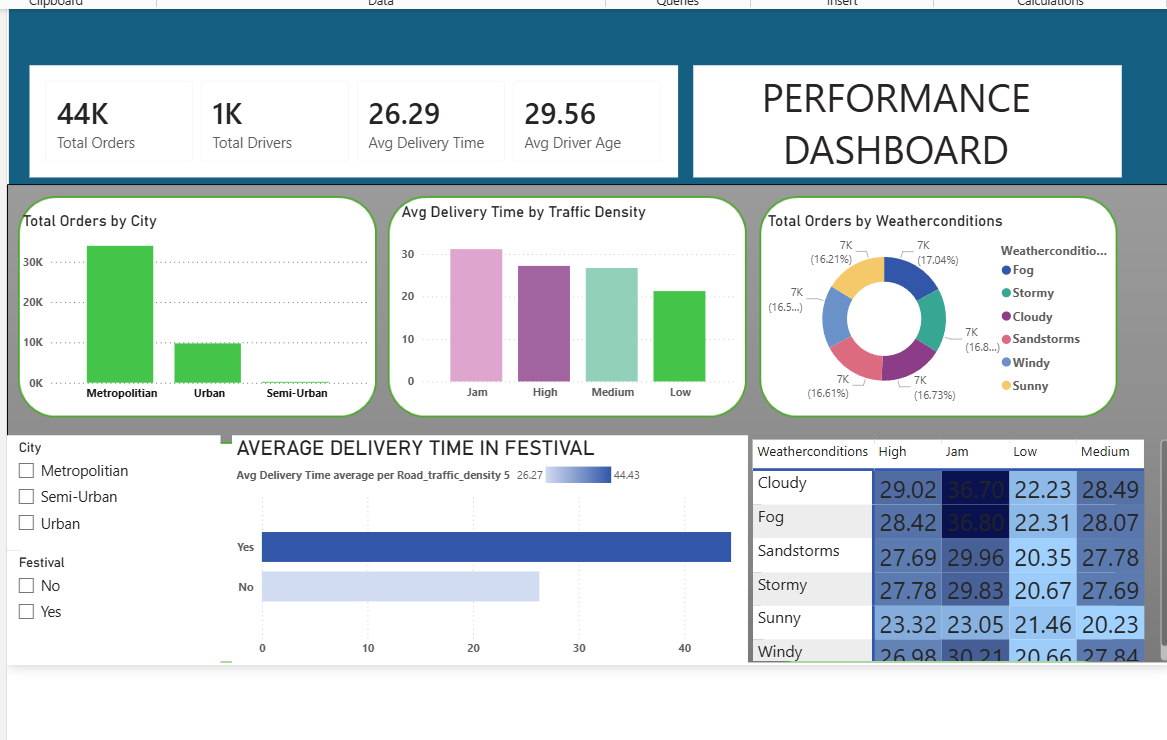

What the dashboard file says about the page in this screenshot:
{"tool":"powerbi","page":{"name":"Page 4","canvas":[1280,720],"ordinal":3},"visuals":[{"type":"columnChart","fields":{"Y":["PROJECT1.Total Orders"],"Category":["PROJECT1.City"]},"box":[12.3,222.3,388.3,218.2],"z":0},{"type":"columnChart","title":"Avg Delivery Time by Traffic Density","fields":{"Y":["PROJECT1.Avg Delivery Time average per Road_traffic_density 2"],"Category":["PROJECT1.Road_traffic_density"]},"box":[428.1,212.7,376,226.4],"z":1000},{"type":"donutChart","fields":{"Category":["PROJECT1.Weatherconditions"],"Y":["PROJECT1.Total Orders"]},"box":[830.2,222.3,393.8,216.8],"z":2000},{"type":"cardVisual","fields":{"Data":["PROJECT1.Total Orders","PROJECT1.Total Drivers","PROJECT1.Avg Delivery Time","PROJECT1.Avg Driver Age"]},"box":[24.7,61.7,712.2,123.5],"z":3000},{"type":"clusteredBarChart","title":"AVERAGE DELIVERY TIME IN FESTIVAL","fields":{"Y":["PROJECT1.Avg Delivery Time average per Road_traffic_density 5"],"Category":["PROJECT1.Festival"]},"box":[247,467.9,566.7,252.5],"z":4000},{"type":"pivotTable","fields":{"Rows":["PROJECT1.Weatherconditions"],"Columns":["PROJECT1.Road_traffic_density"],"Values":["PROJECT1.Avg Delivery Time"]},"box":[813.7,467.9,466.6,252.5],"z":5000},{"type":"textbox","box":[753.3,61.7,470.7,123.5],"z":6000},{"type":"slicer","fields":{"Values":["PROJECT1.City"]},"box":[0,467.9,234.6,126.2],"z":7000},{"type":"slicer","fields":{"Values":["PROJECT1.Festival"]},"box":[0,594.2,234.6,126.2],"z":8000}]}

Visuals, with their boxes on the page's 1280x720 design canvas (x1, y1, x2, y2). These are canvas units, not pixel positions in the 1167x740 screenshot, which may show the page scaled, cropped or inside an application window:
columnChart - PROJECT1.Total Orders x PROJECT1.City: (12,222,401,440)
"Avg Delivery Time by Traffic Density" columnChart: (428,213,804,439)
donutChart - PROJECT1.Weatherconditions x PROJECT1.Total Orders: (830,222,1224,439)
cardVisual - PROJECT1.Total Orders x PROJECT1.Total Drivers: (25,62,737,185)
"AVERAGE DELIVERY TIME IN FESTIVAL" clusteredBarChart: (247,468,814,720)
pivotTable - PROJECT1.Weatherconditions x PROJECT1.Road_traffic_density: (814,468,1280,720)
textbox: (753,62,1224,185)
slicer - PROJECT1.City: (0,468,235,594)
slicer - PROJECT1.Festival: (0,594,235,720)
